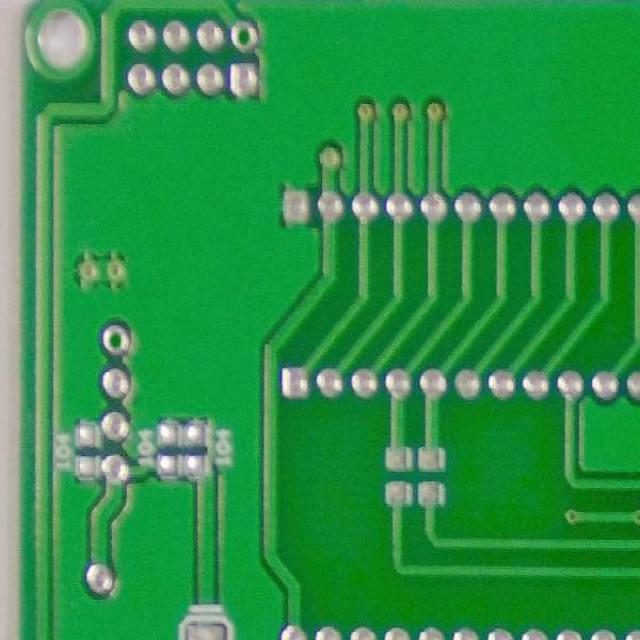missing hole: (95, 318, 136, 362), (228, 13, 265, 59)
